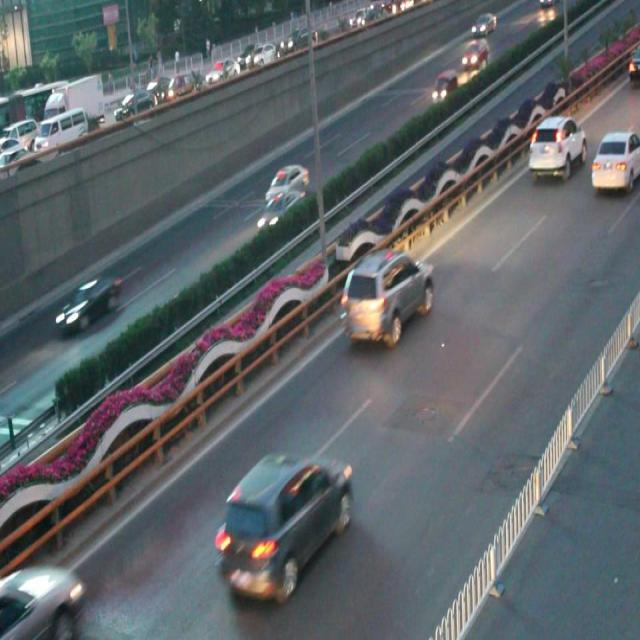car: (218, 449, 353, 603), (342, 253, 435, 346), (0, 553, 84, 640), (526, 114, 586, 180), (55, 274, 122, 333), (589, 130, 640, 194), (257, 189, 304, 231), (264, 165, 310, 199)
truck: (429, 68, 458, 106)
